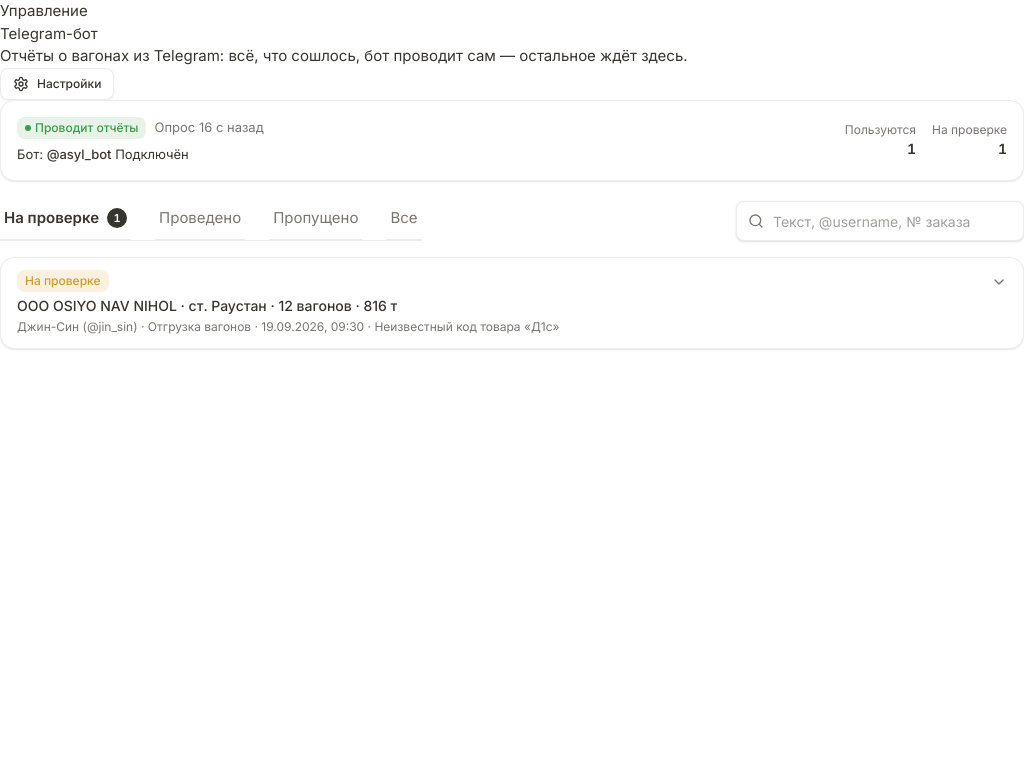
Test case: Telegram-бот: журнал › settings errors stay inside the modal
The image size is (1024, 768).
What coordinates should you click on to do the following:
click the button "Настройки"
I would click on:
 (57, 84)
Its box is [0,68,114,100].
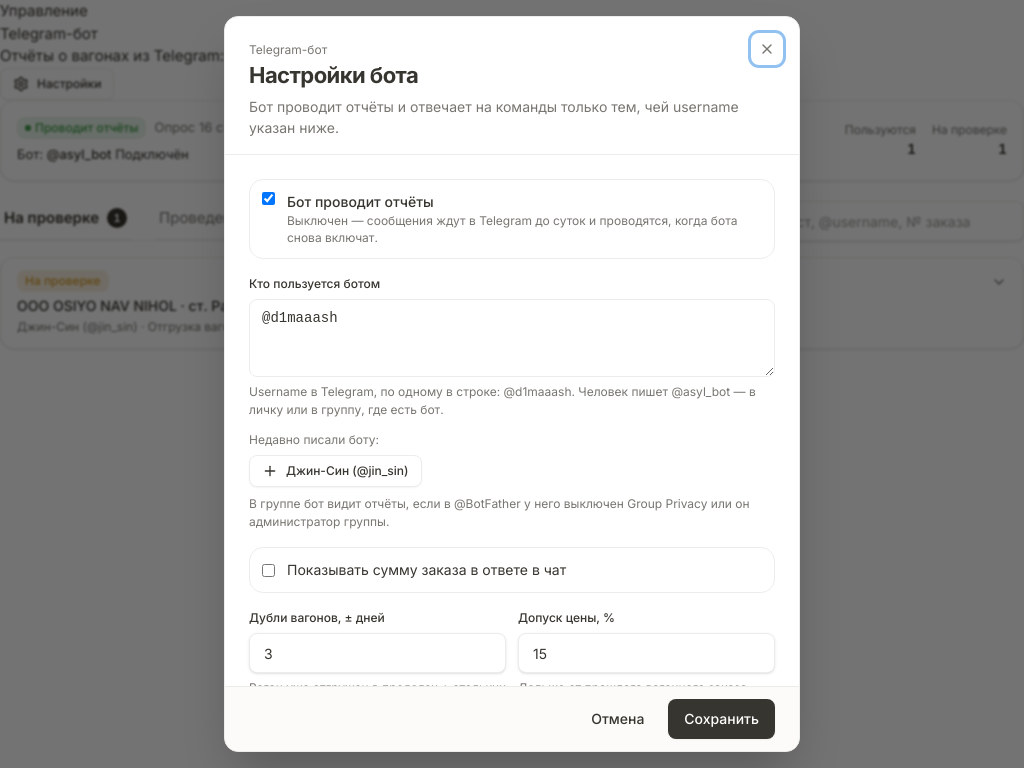
What coordinates should you click on to do the following:
click the button "Сохранить"
I would click on:
 (722, 719)
Its box is [668,699,775,739].
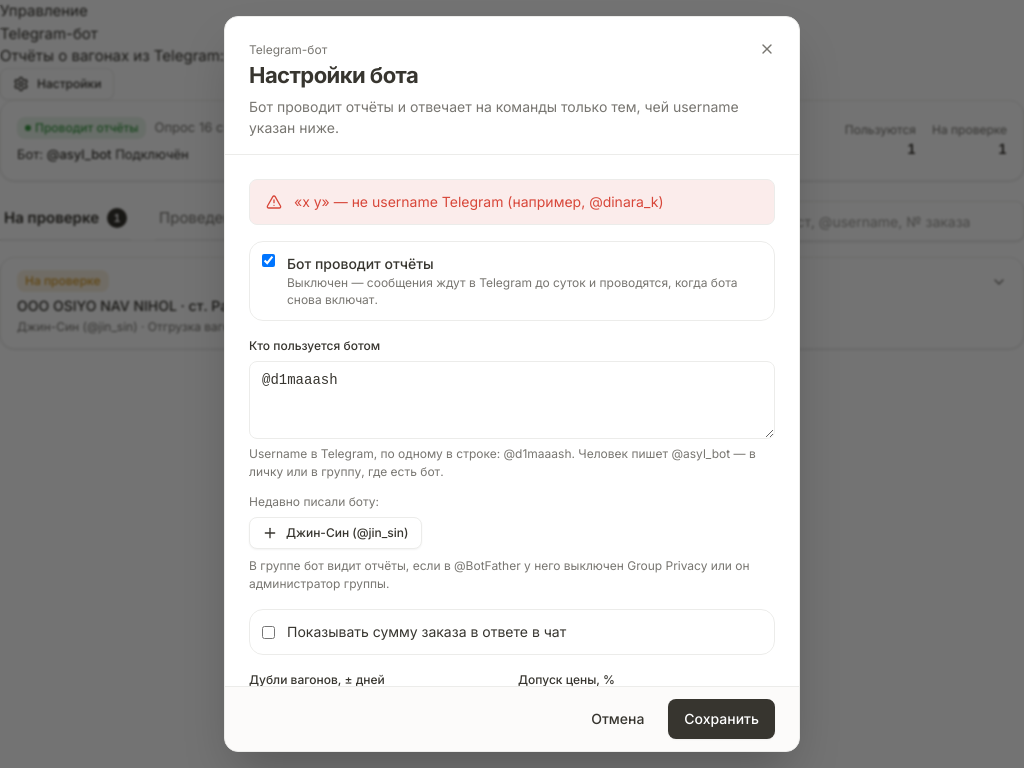
Result: the text "«x y» — не username Telegram (например, @dinara_k)" is shown at [294,192,664,212]
